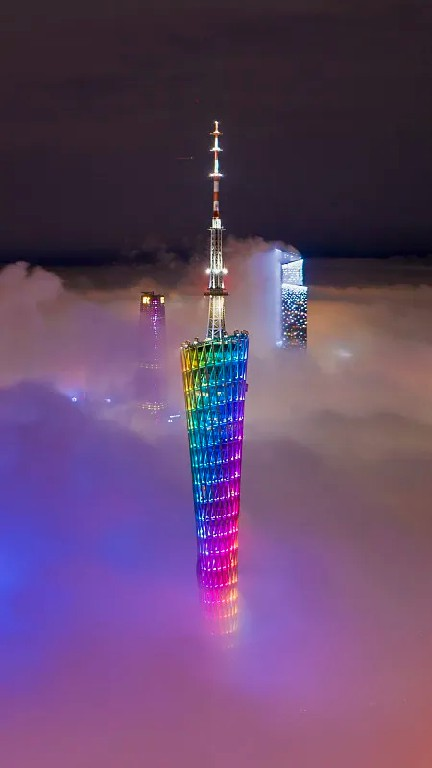Canton: (181, 121, 254, 666)
